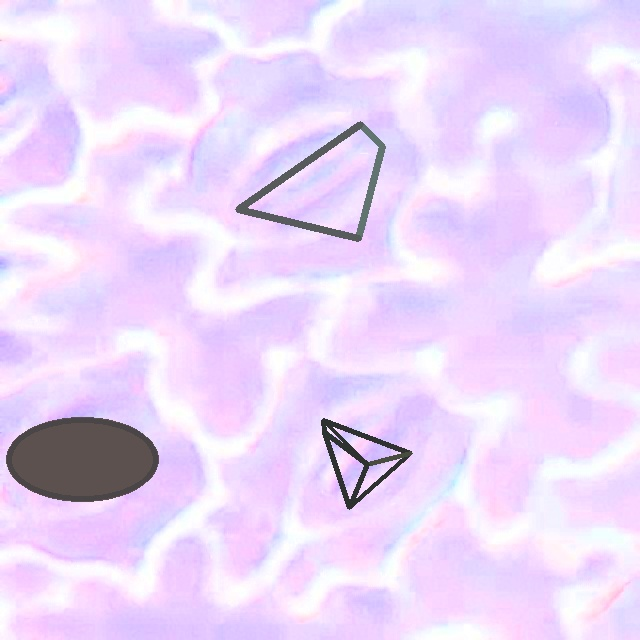open: (235, 122, 384, 240), (6, 417, 159, 501), (322, 418, 412, 509)
